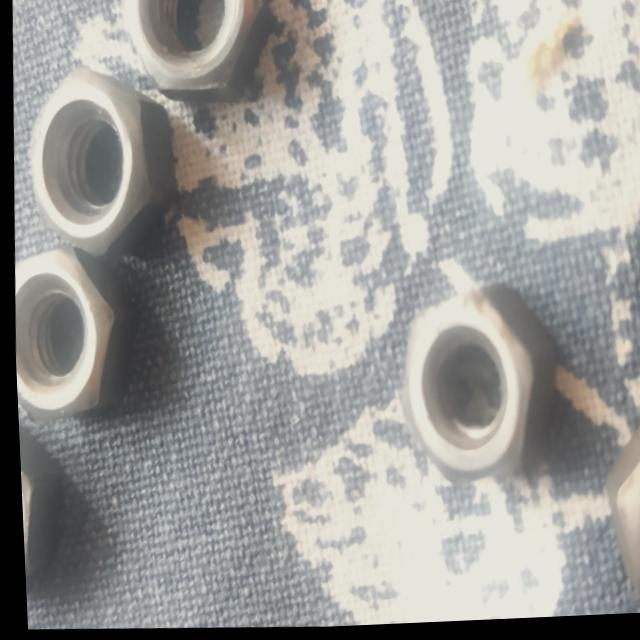disinfected nut: (396, 289, 549, 486), (28, 65, 171, 255), (11, 249, 109, 419), (121, 0, 256, 89), (601, 422, 640, 602), (15, 429, 49, 572)
